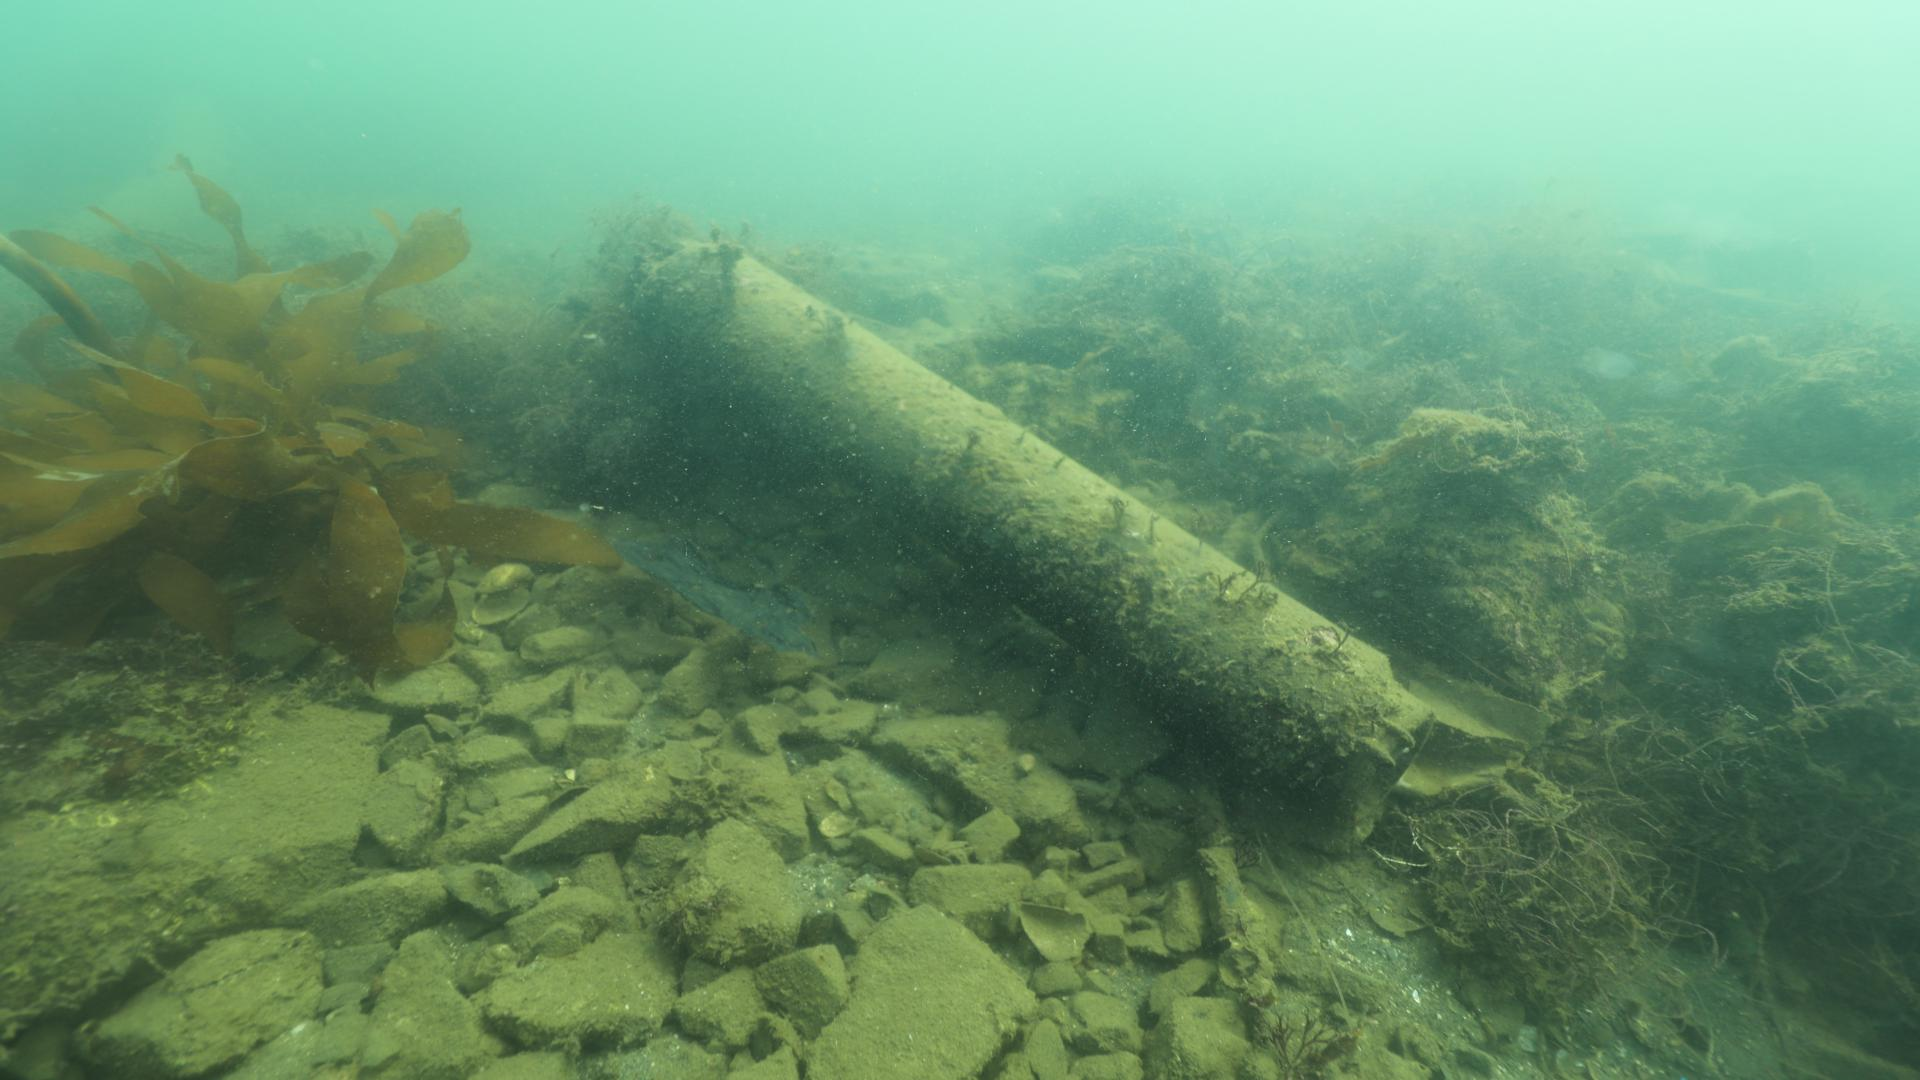eel fish trap: (626, 236, 1436, 857)
